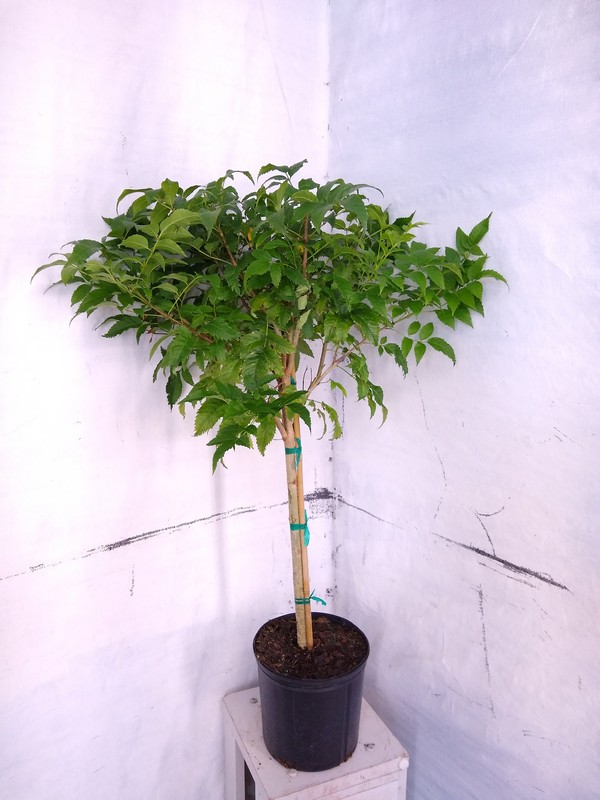plant: (28, 159, 514, 651)
pot: (249, 612, 371, 772)
